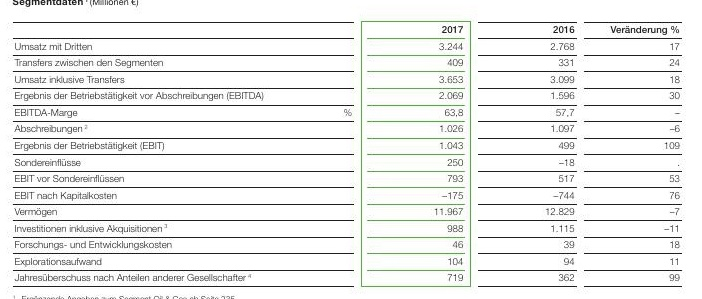table: (0, 0, 702, 299)
